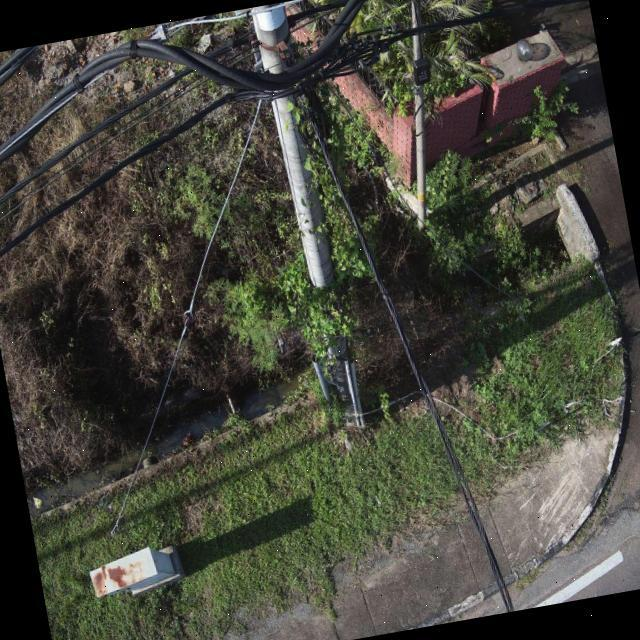critical vegetation: (254, 91, 368, 377)
